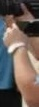boots: (0, 103, 13, 107), (0, 103, 11, 107)
hard-hat: (0, 0, 10, 8)
